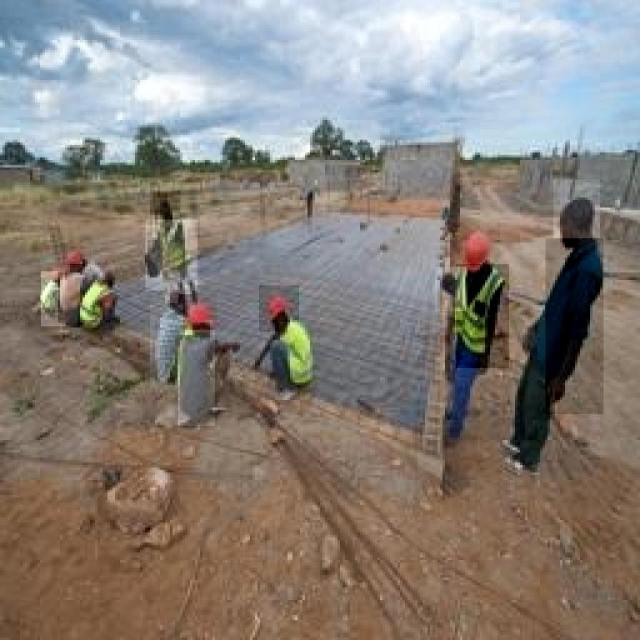Helmet: (546, 239, 604, 415), (456, 264, 509, 368), (554, 180, 600, 258), (178, 330, 215, 426), (280, 322, 324, 399), (452, 218, 500, 284), (150, 303, 183, 388), (259, 286, 299, 332), (179, 294, 217, 339), (58, 265, 83, 323), (435, 268, 466, 312), (165, 282, 192, 324), (154, 191, 180, 234), (63, 247, 91, 272)
Safety Vest: (146, 220, 198, 290), (41, 271, 66, 326), (84, 277, 109, 328)
